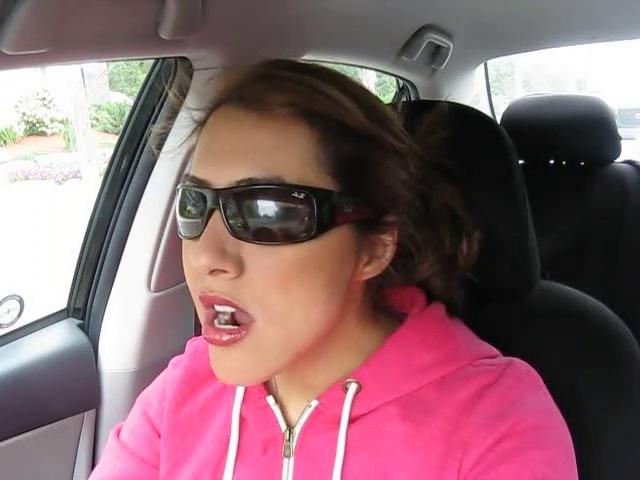yawn: (184, 290, 271, 353)
